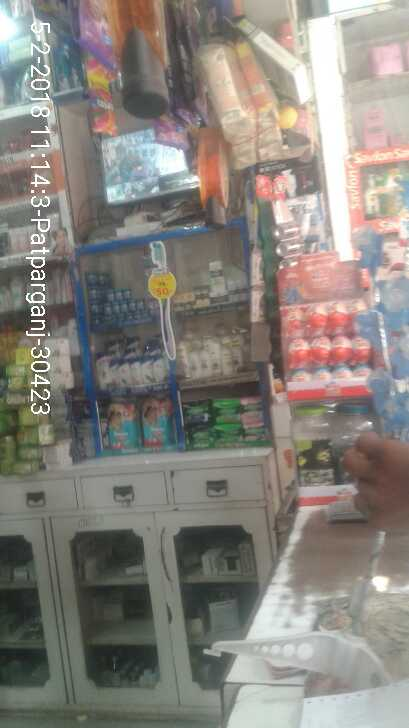beauty: (208, 263, 225, 290), (177, 344, 190, 379), (95, 355, 109, 387), (152, 354, 166, 383), (193, 283, 210, 305), (141, 356, 152, 385), (212, 344, 221, 376), (131, 360, 142, 386), (110, 360, 120, 388), (192, 346, 201, 377), (175, 295, 193, 309), (222, 348, 231, 375), (232, 346, 241, 373), (202, 347, 210, 377), (121, 363, 130, 387)
pharmacy: (106, 402, 140, 449), (142, 399, 174, 445), (183, 402, 213, 424), (242, 400, 266, 423), (185, 429, 213, 447), (216, 401, 241, 421), (244, 426, 270, 444), (216, 425, 242, 442), (87, 272, 105, 285), (88, 288, 105, 301), (90, 303, 103, 313), (104, 290, 113, 301), (115, 290, 123, 300), (102, 305, 110, 314), (112, 305, 119, 314), (121, 304, 128, 313), (128, 302, 135, 311), (137, 301, 144, 310), (123, 291, 131, 298)
